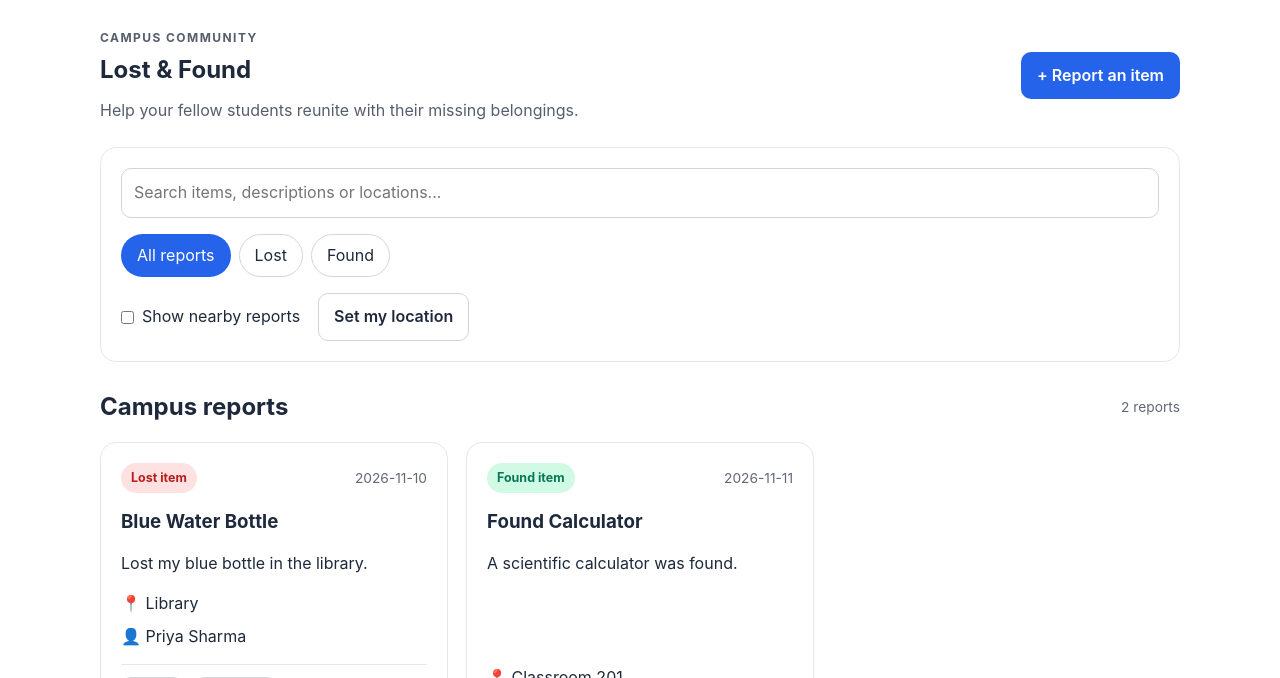
Scenario: LostFound Page › opens the report creation form
Click the button "+ Report an item" at (1100, 76), box [1021,52,1180,99]
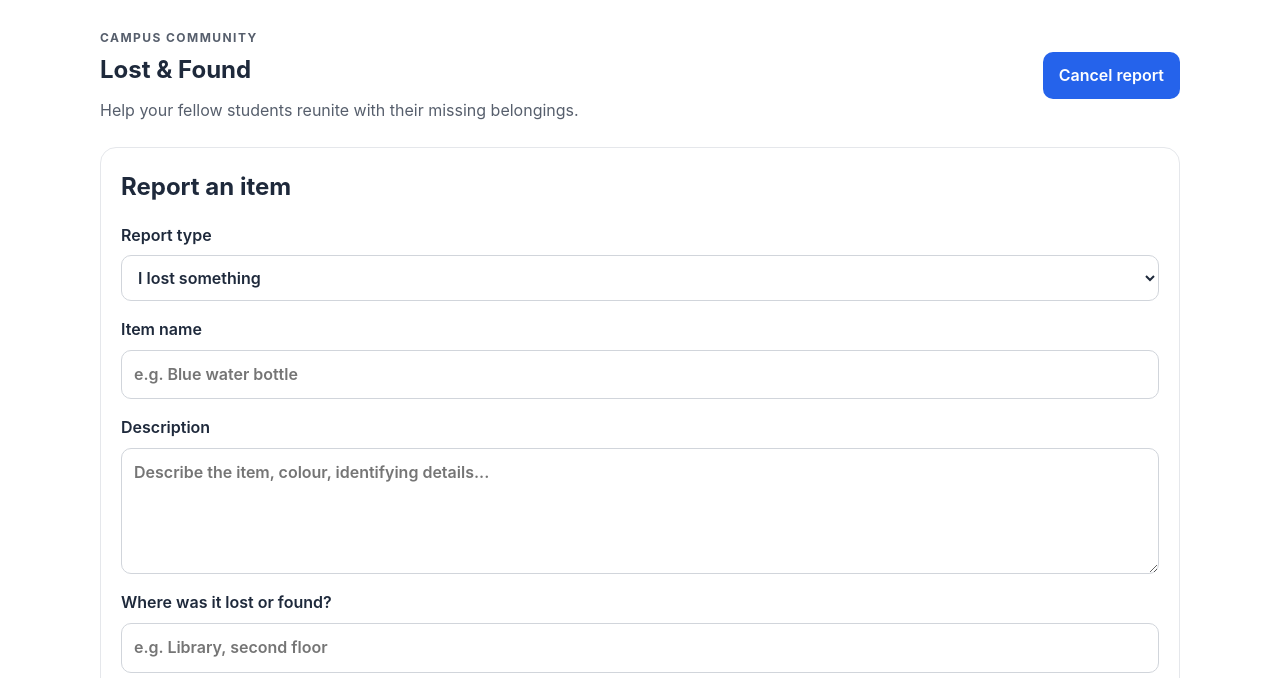
Expected: the field labelled "Item name" is shown, [121,350,1159,399]
Expected: the text box labelled "Description" is shown, [121,448,1159,574]
Expected: the field labelled "Where was it lost or found?" is shown, [121,623,1159,672]
